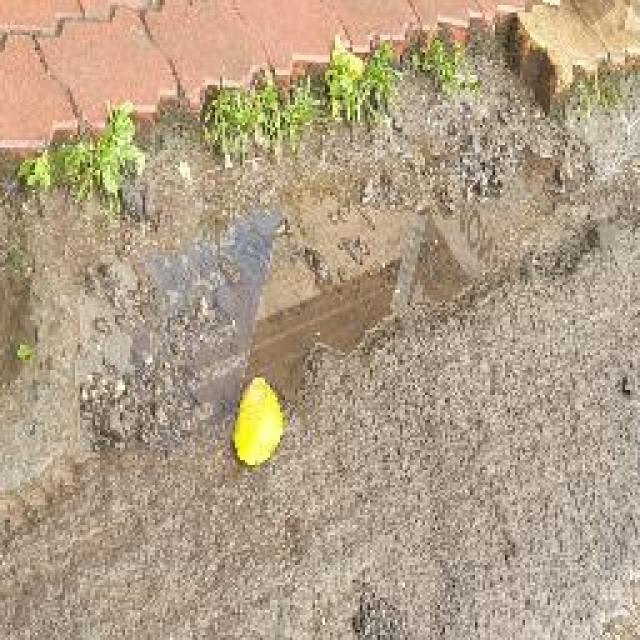puddle: (154, 145, 579, 415)
